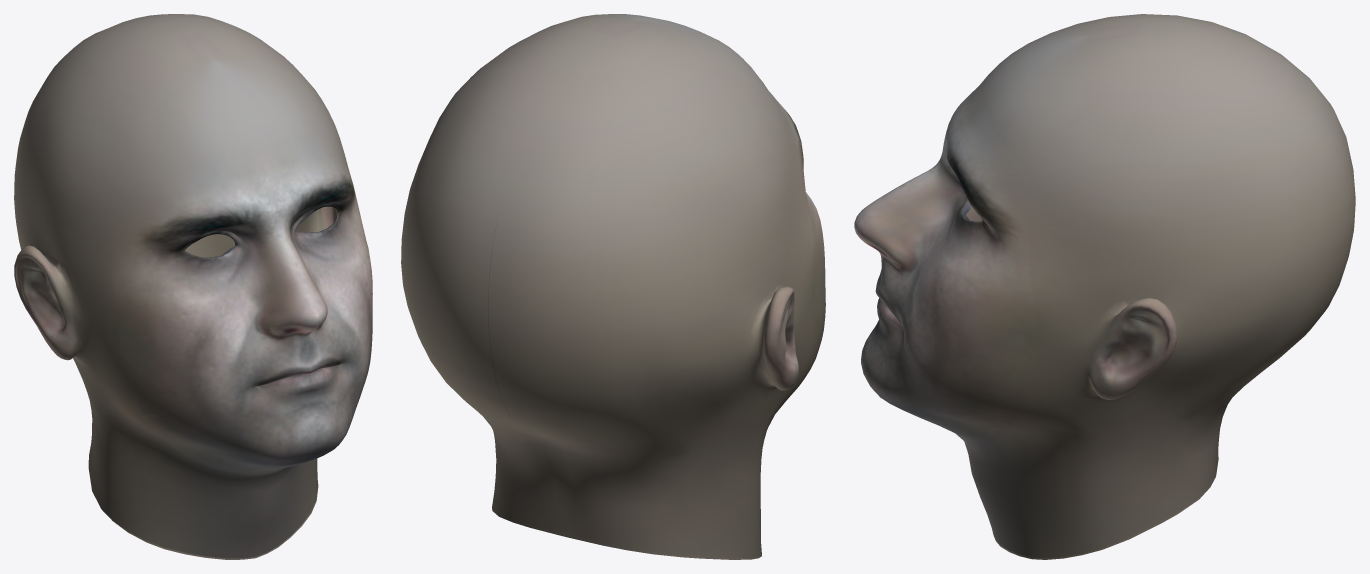
3 views of the same model, side by side, from view 1: azimuth 30°, elevation 25°; view 2: azimuth 150°, elevation 25°; view 3: azimuth 270°, elevation 25° (orthographic). The views are drawn at different scales.
Visible parts, largest first — view 1: FaceGen; view 2: FaceGen; view 3: FaceGen.
Part boxes in pixels (x1,y1,x2,y2): FaceGen: [14, 14, 372, 559]; FaceGen: [401, 14, 825, 559]; FaceGen: [854, 14, 1355, 559].
Size of the model in its own units: 198 by 279 by 249.
Materials: 1 (1 with a texture image).
